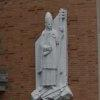Statue: (23, 11, 80, 95)
